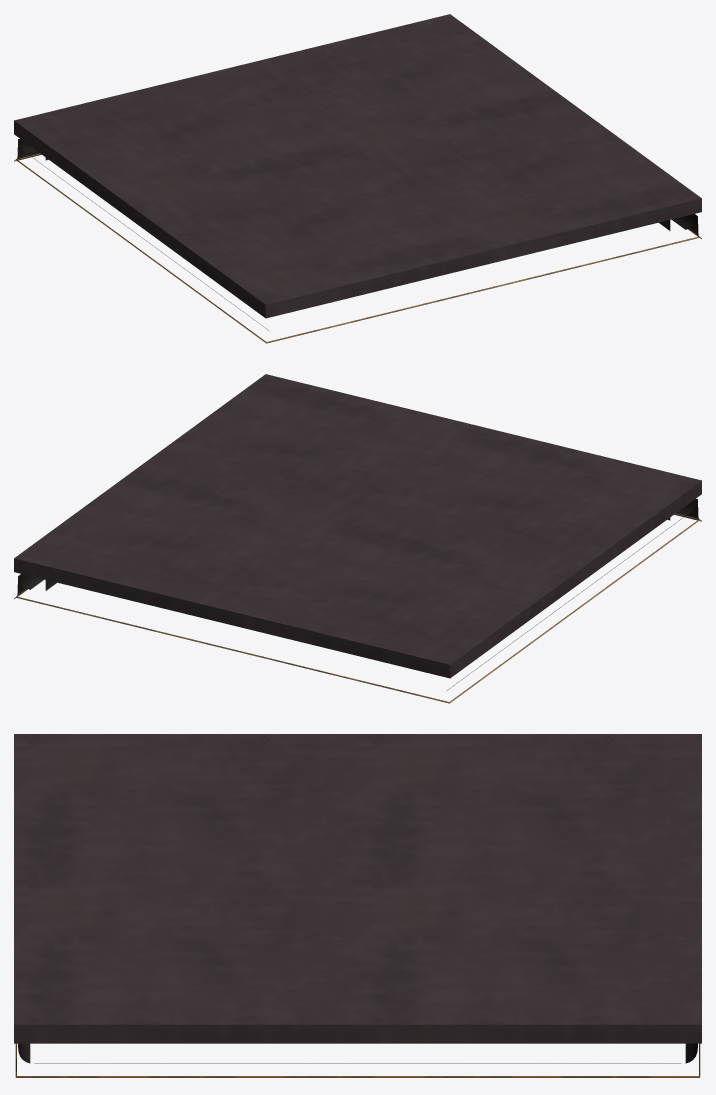
The model's file is DormCeiling.fbx.
3 renders of one model, top to bottom at view 1: azimuth 30°, elevation 25°; view 2: azimuth 150°, elevation 25°; view 3: azimuth 270°, elevation 25°, orthographic. The views are drawn at different scales.
Parts seen in each view (by area): view 1: DormCeiling_Plaster, DormCeiling_Main; view 2: DormCeiling_Plaster, DormCeiling_Main; view 3: DormCeiling_Plaster, DormCeiling_Main.
Part boxes in pixels (<box>): DormCeiling_Plaster: <box>14,14,701,318</box>; DormCeiling_Main: <box>14,139,701,343</box>; DormCeiling_Plaster: <box>14,374,701,678</box>; DormCeiling_Main: <box>14,499,701,703</box>; DormCeiling_Plaster: <box>14,734,701,1043</box>; DormCeiling_Main: <box>15,1043,700,1077</box>.
Size of the model in its own units: 1000 by 90 by 1000.
